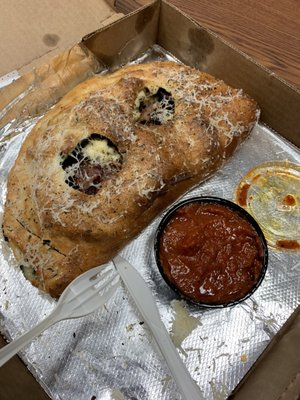salad: (0, 261, 121, 372)
